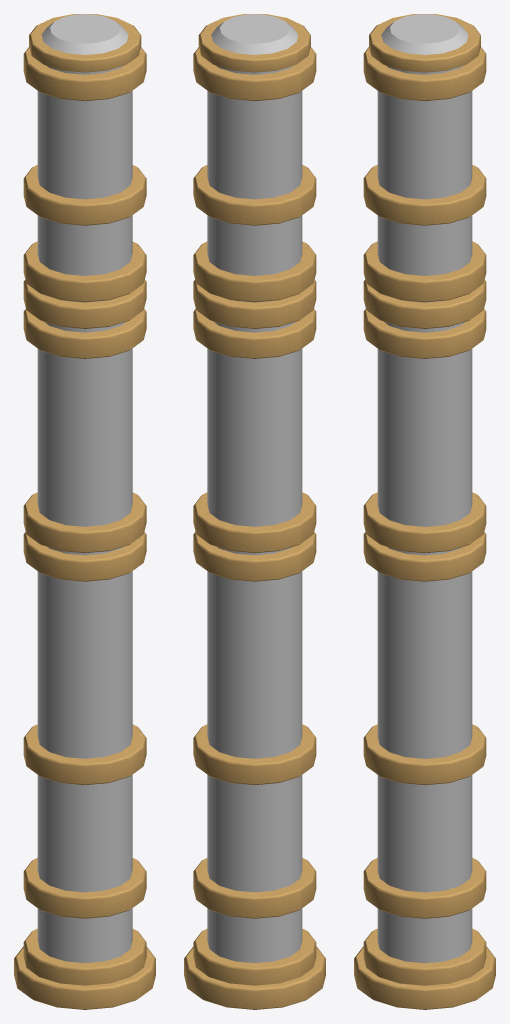
The model's file is Pipes_02.fbx.
3 views of the same model, side by side, from view 1: azimuth 30°, elevation 25°; view 2: azimuth 150°, elevation 25°; view 3: azimuth 270°, elevation 25° (orthographic).
Parts seen in each view (by area): view 1: Pipes_02; view 2: Pipes_02; view 3: Pipes_02.
Boxes of the visible parts, x1,y1,x2,y2 form: Pipes_02: [14, 14, 155, 1009]; Pipes_02: [184, 14, 325, 1009]; Pipes_02: [354, 14, 495, 1009].
Size of the model in its own units: 84.36 by 629 by 84.82.
